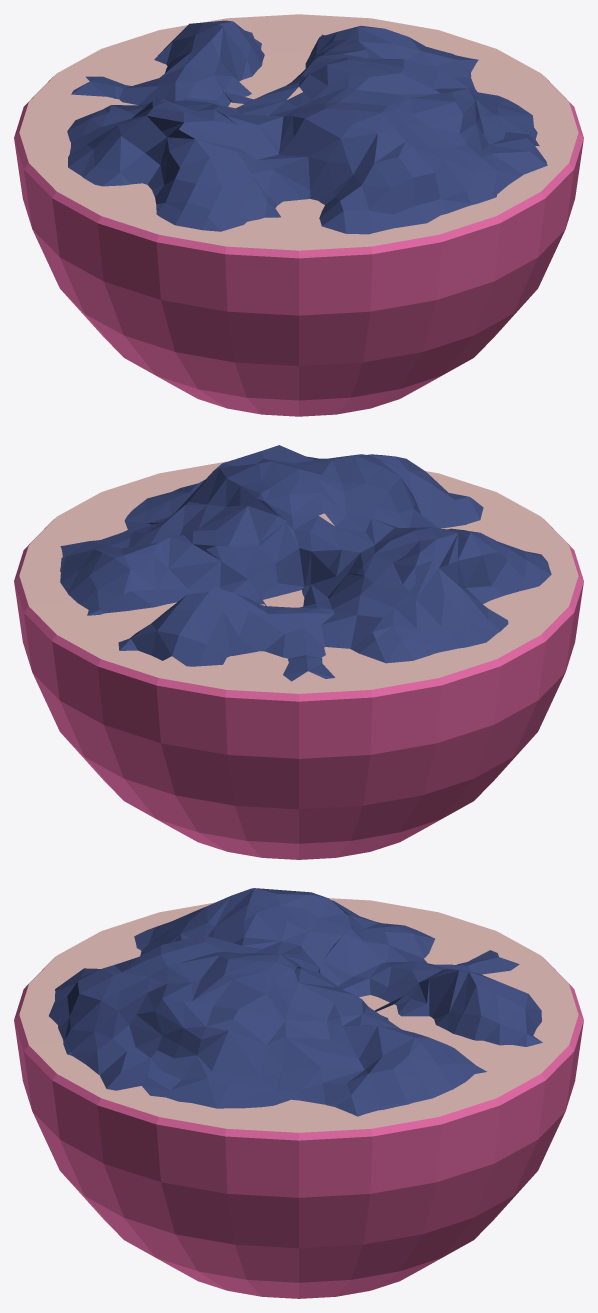
Rendered from icon-sechelt-1.dae.
3 views of the same model, one above another, from view 1: azimuth 30°, elevation 25°; view 2: azimuth 150°, elevation 25°; view 3: azimuth 270°, elevation 25° (orthographic).
Visible parts, largest first — view 1: base, mountains, water; view 2: base, mountains, water; view 3: base, mountains, water.
Part boxes in pixels (x1,y1,x2,y2): base: (14, 76, 583, 416); mountains: (67, 20, 547, 234); water: (19, 14, 578, 250); base: (14, 519, 583, 859); mountains: (60, 445, 551, 681); water: (19, 461, 578, 693); base: (14, 957, 583, 1298); mountains: (49, 888, 542, 1116); water: (19, 898, 578, 1132).
Bounding box in the file's own units: 199 × 128 × 199.
